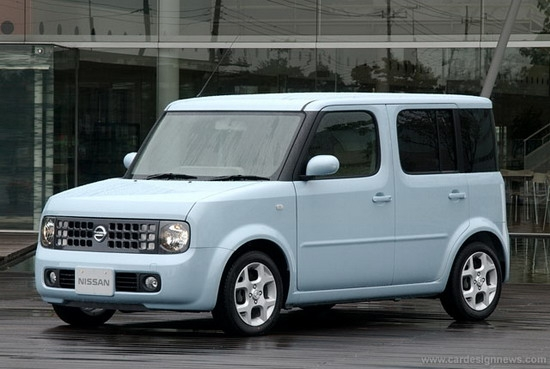front_view: (1, 117, 305, 241)
headlight: (144, 122, 277, 171)
side_glass: (338, 2, 410, 68)
